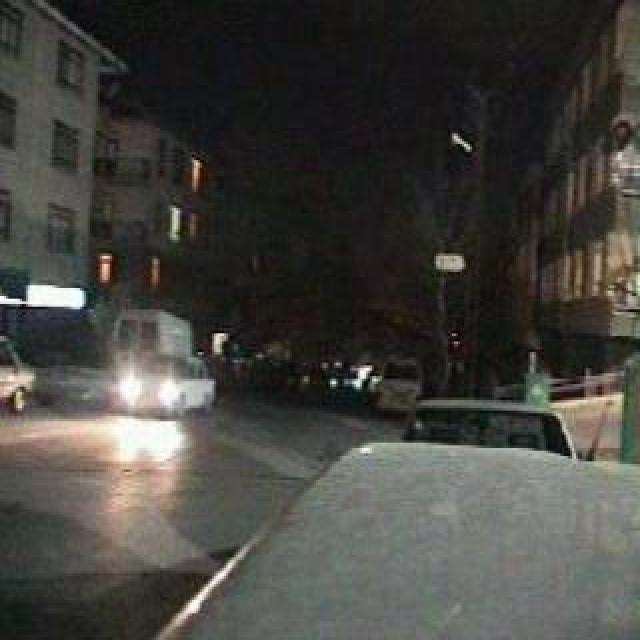other: (92, 366, 206, 423), (109, 407, 185, 473)
